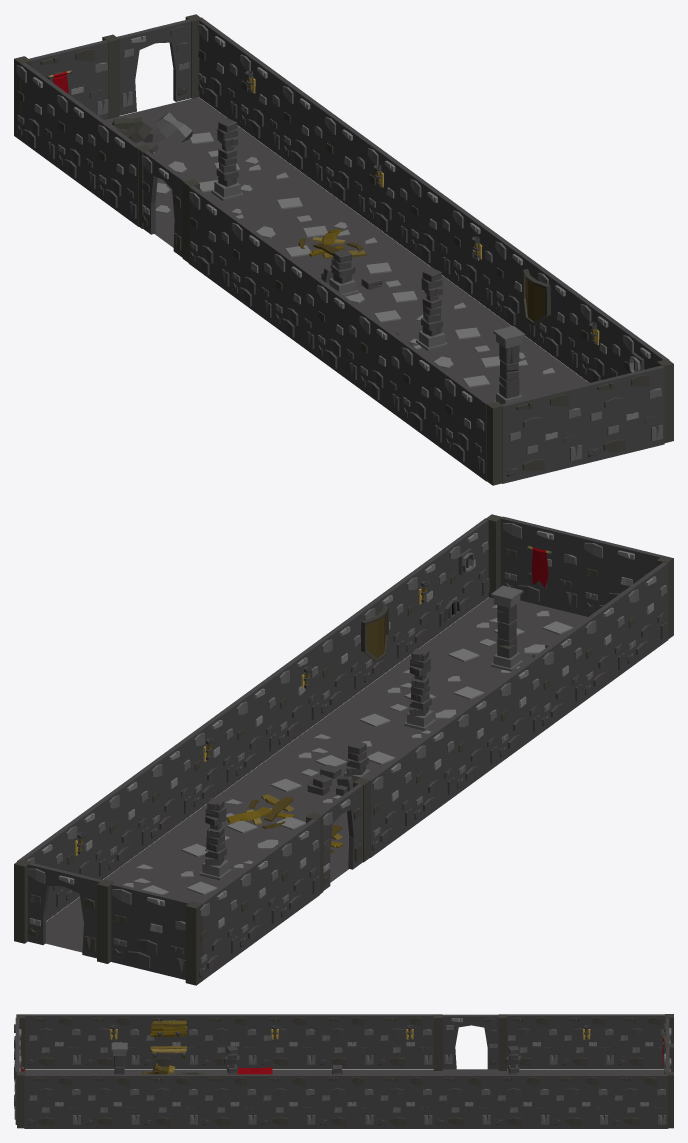
File: room1.glb
3 renders of one model, top to bottom at view 1: azimuth 30°, elevation 25°; view 2: azimuth 150°, elevation 25°; view 3: azimuth 270°, elevation 25°, orthographic. The views are drawn at different scales.
Visible parts, largest first — view 1: Flat_Wall.002, Big_Flat_Floor.001, Flat_Wall.003, Flat_Wall.001, Flat_Wall.004, exit 1, Flat_Wall, exit left, Improvised_Column.001, Column.001, Improvised_Column.002, Brick_Pile.001 (+7 smaller); view 2: Flat_Wall.002, Big_Flat_Floor.001, Flat_Wall.003, Flat_Wall.004, Flat_Wall.001, Flat_Wall, exit 1, exit left, Column.001, Improvised_Column.002, Improvised_Column.001, Broken_Column.001 (+6 smaller); view 3: Flat_Wall.002, Flat_Wall.003, Flat_Wall.004, Big_Flat_Floor.001, exit left, SwordStand_1.001, Stone_Wall_Corner.003, Stone_Wall_Corner.004, Flat_Wall.001, Stone_Wall_Corner.001, Column.001, Improvised_Column.002 (+6 smaller).
Part boxes in pixels (<box>): Flat_Wall.002: <box>197,17,669,382</box>; Big_Flat_Floor.001: <box>104,97,588,402</box>; Flat_Wall.003: <box>188,185,489,481</box>; Flat_Wall.001: <box>502,365,664,483</box>; Flat_Wall.004: <box>16,62,139,226</box>; exit 1: <box>117,19,191,115</box>; Flat_Wall: <box>29,40,108,119</box>; exit left: <box>141,150,187,257</box>; Improvised_Column.001: <box>416,268,448,350</box>; Column.001: <box>493,326,525,404</box>; Improvised_Column.002: <box>211,118,243,201</box>; Brick_Pile.001: <box>109,112,192,152</box>; Flat_Wall.002: <box>17,518,489,920</box>; Big_Flat_Floor.001: <box>46,597,587,952</box>; Flat_Wall.003: <box>366,562,668,857</box>; Flat_Wall.004: <box>198,818,320,980</box>; Flat_Wall.001: <box>500,516,662,616</box>; Flat_Wall: <box>111,883,190,979</box>; exit 1: <box>27,862,102,958</box>; exit left: <box>318,784,362,890</box>; Column.001: <box>491,585,523,671</box>; Improvised_Column.002: <box>199,798,231,880</box>; Improvised_Column.001: <box>404,648,436,730</box>; Broken_Column.001: <box>307,741,370,795</box>; Flat_Wall.002: <box>24,1074,668,1128</box>; Flat_Wall.003: <box>25,1014,433,1068</box>; Flat_Wall.004: <box>507,1014,664,1068</box>; Big_Flat_Floor.001: <box>21,1069,663,1074</box>; exit left: <box>442,1014,498,1069</box>; SwordStand_1.001: <box>150,1020,187,1036</box>; Stone_Wall_Corner.003: <box>433,1014,442,1070</box>; Stone_Wall_Corner.004: <box>498,1014,507,1070</box>; Flat_Wall.001: <box>14,1018,21,1124</box>; Stone_Wall_Corner.001: <box>17,1071,25,1128</box>; Column.001: <box>111,1042,127,1074</box>; Improvised_Column.002: <box>505,1045,521,1074</box>.
Bounding box in the file's own units: 20.29 × 8.52 × 89.83.
Materials: 1 (1 with a texture image).
